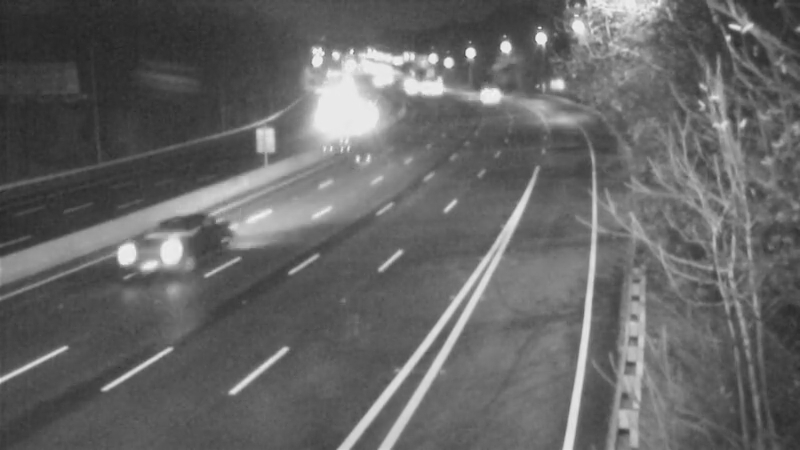vehicle: (111, 220, 191, 300), (457, 61, 507, 111), (333, 95, 383, 145)
